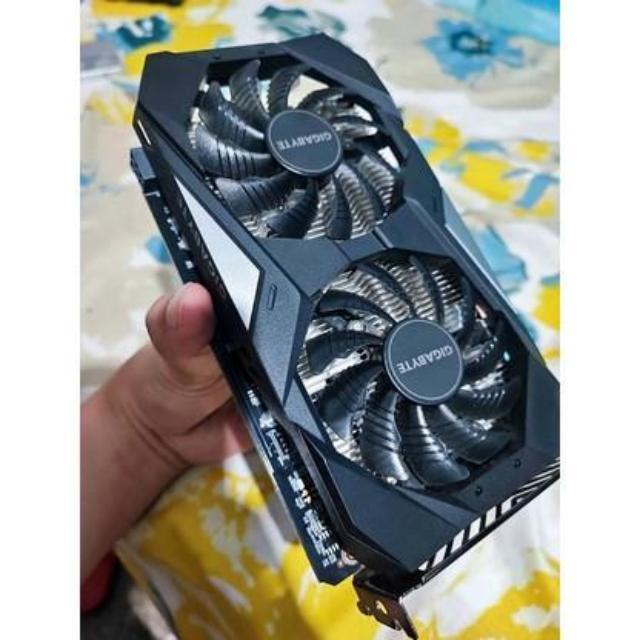GPU: (110, 26, 558, 611)
